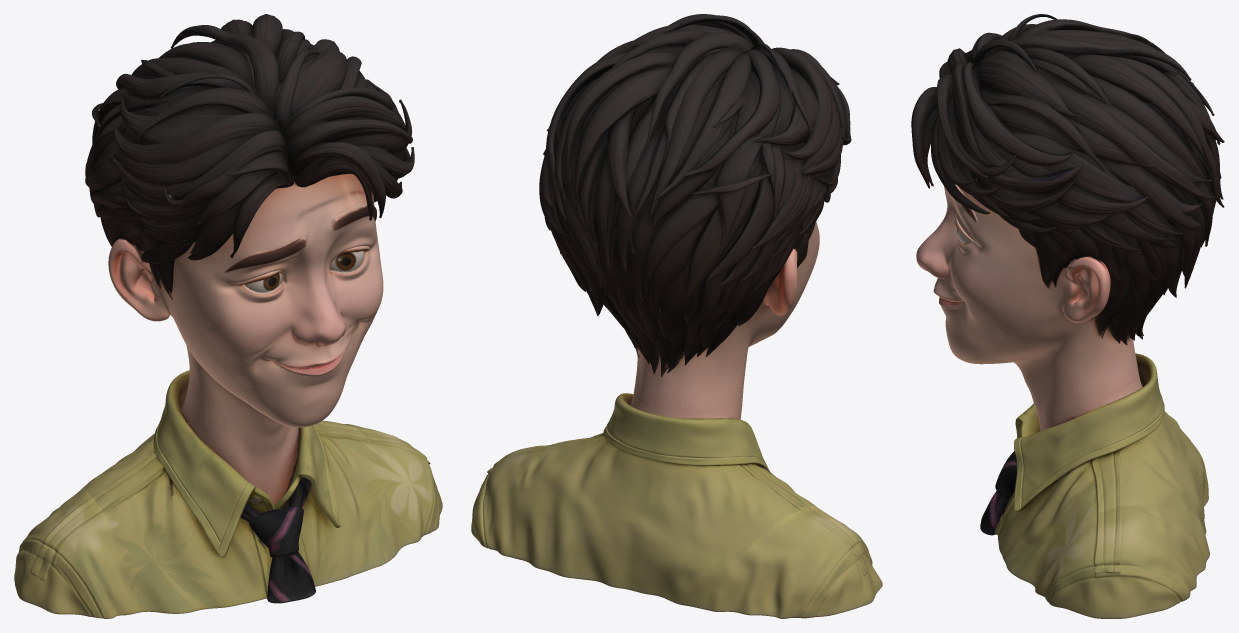
Rendered from character.glb.
The picture shows the model from 3 angles, left to right: view 1: azimuth 30°, elevation 25°; view 2: azimuth 150°, elevation 25°; view 3: azimuth 270°, elevation 25°; orthographic projection. The views are drawn at different scales.
Parts seen in each view (by area): view 1: tripo_node_e7c6c2f3-12b7-4888-8102-63363bc57603; view 2: tripo_node_e7c6c2f3-12b7-4888-8102-63363bc57603; view 3: tripo_node_e7c6c2f3-12b7-4888-8102-63363bc57603.
Part boxes in pixels (box(x1,y1,x2,y2)): tripo_node_e7c6c2f3-12b7-4888-8102-63363bc57603: box(14, 14, 442, 618); tripo_node_e7c6c2f3-12b7-4888-8102-63363bc57603: box(471, 14, 882, 618); tripo_node_e7c6c2f3-12b7-4888-8102-63363bc57603: box(911, 14, 1224, 618).
Bounding box in the file's own units: 0.8051 × 0.9796 × 0.5661.
Materials: 1 (1 with a texture image).
